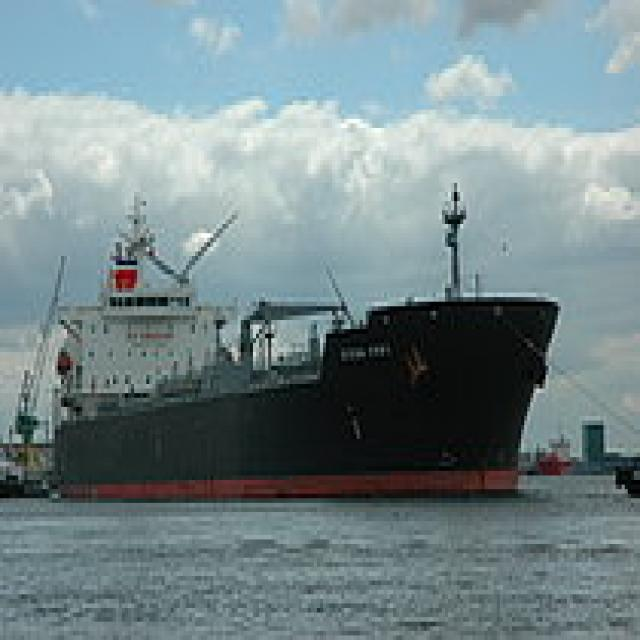Tanker: (49, 174, 558, 489)
